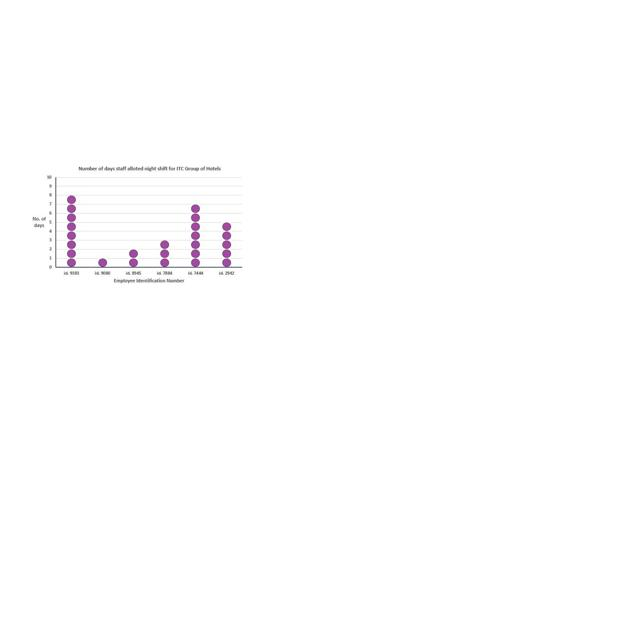Graph: (25, 163, 247, 288)
